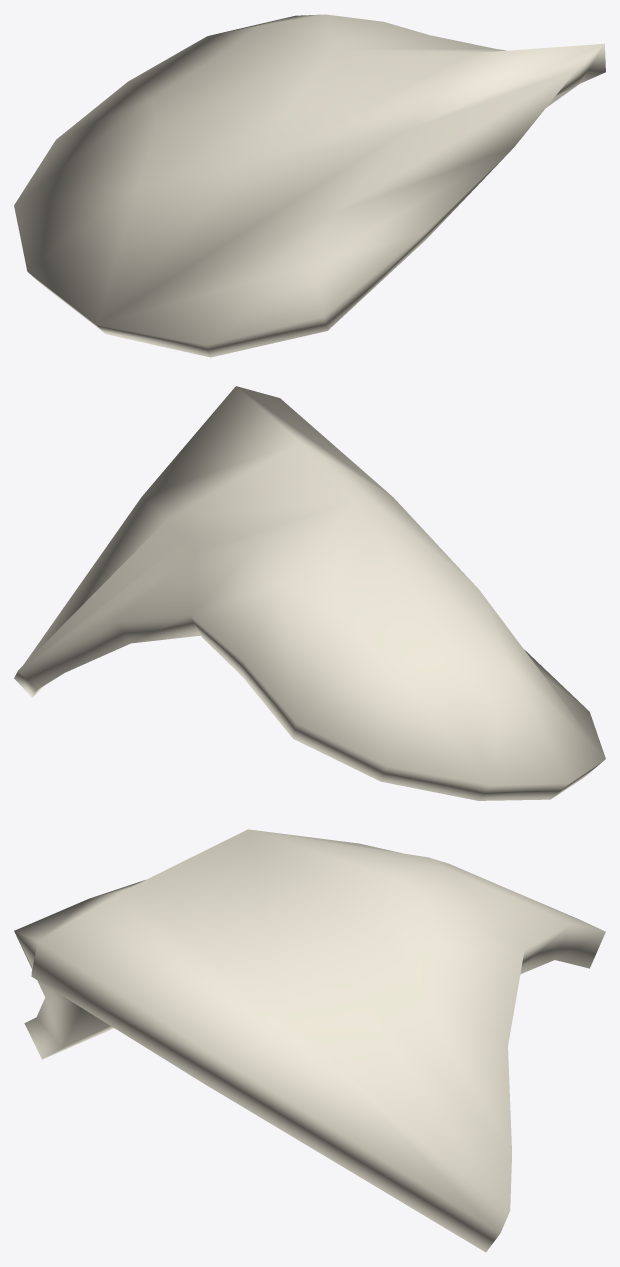
The picture shows the model from 3 angles, top to bottom: view 1: azimuth 30°, elevation 25°; view 2: azimuth 150°, elevation 25°; view 3: azimuth 270°, elevation 25°; orthographic projection. The views are drawn at different scales.
Visible parts, largest first — view 1: ZA_ebb4ecec922ba2df; view 2: ZA_ebb4ecec922ba2df; view 3: ZA_ebb4ecec922ba2df.
Boxes of the visible parts, x1,y1,x2,y2 form: ZA_ebb4ecec922ba2df: (14, 14, 605, 357); ZA_ebb4ecec922ba2df: (14, 386, 605, 800); ZA_ebb4ecec922ba2df: (14, 829, 605, 1252).
Bounding box in the file's own units: 0.01 × 0.00455 × 0.00733.
